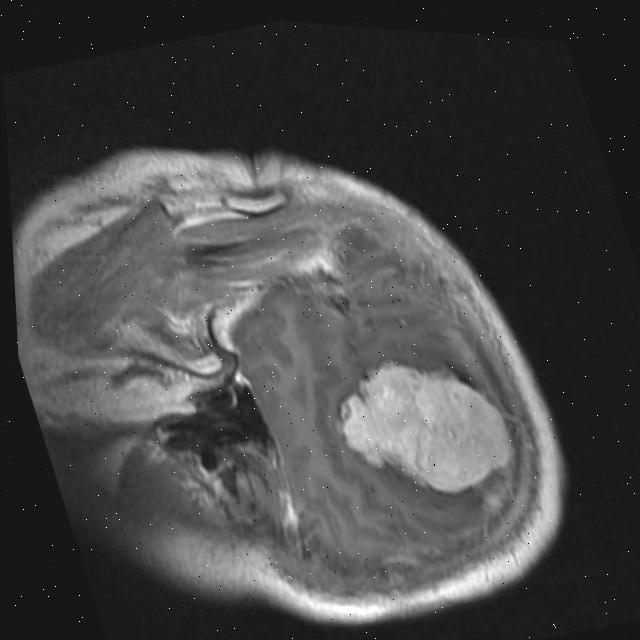Meningioma: (320, 331, 527, 523)
